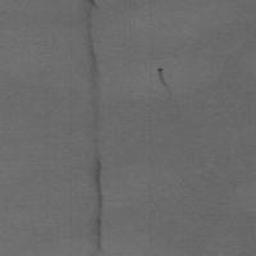Inclusion: (84, 0, 105, 252), (156, 68, 169, 87)
